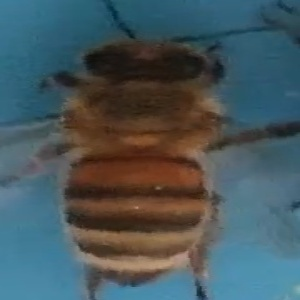bee: (3, 25, 263, 300)
